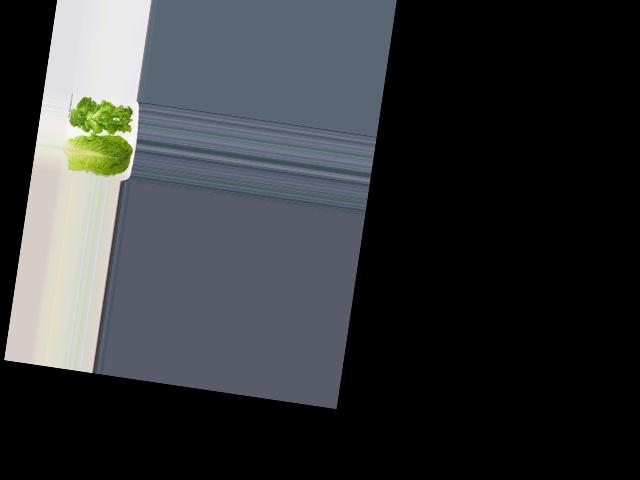lettuce: (70, 91, 136, 137)
